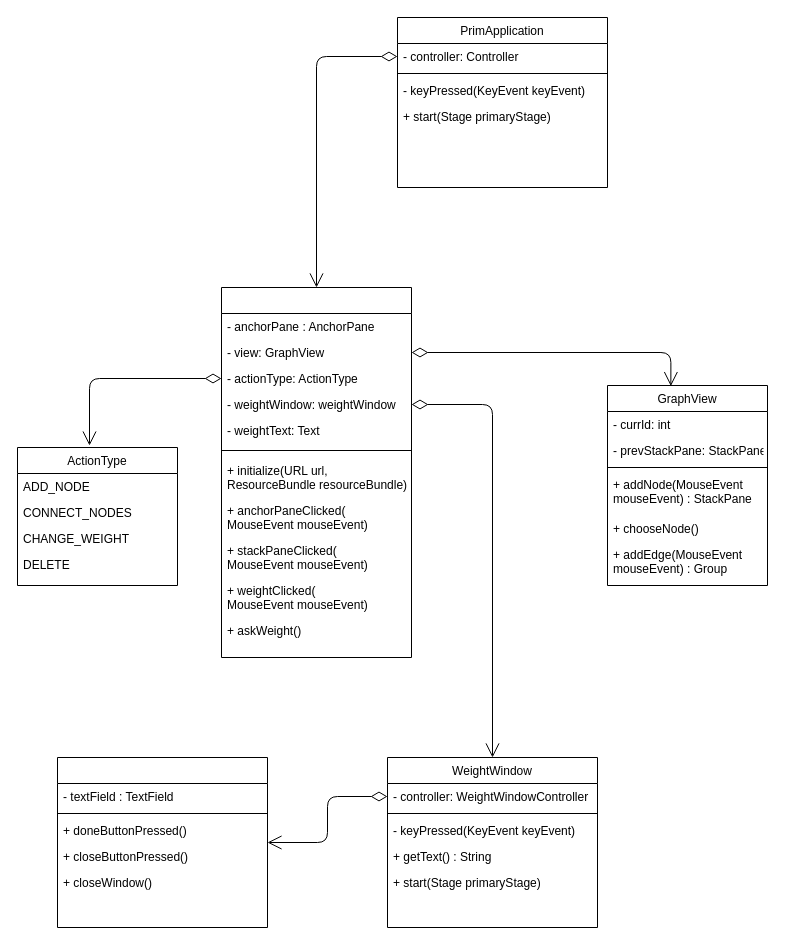
Image size: 785x945. Some labels were removed from this diagram. Each missing label, with the box of its shape:
Controller: (220, 286, 412, 658)
WeightWindowController: (56, 756, 268, 928)
